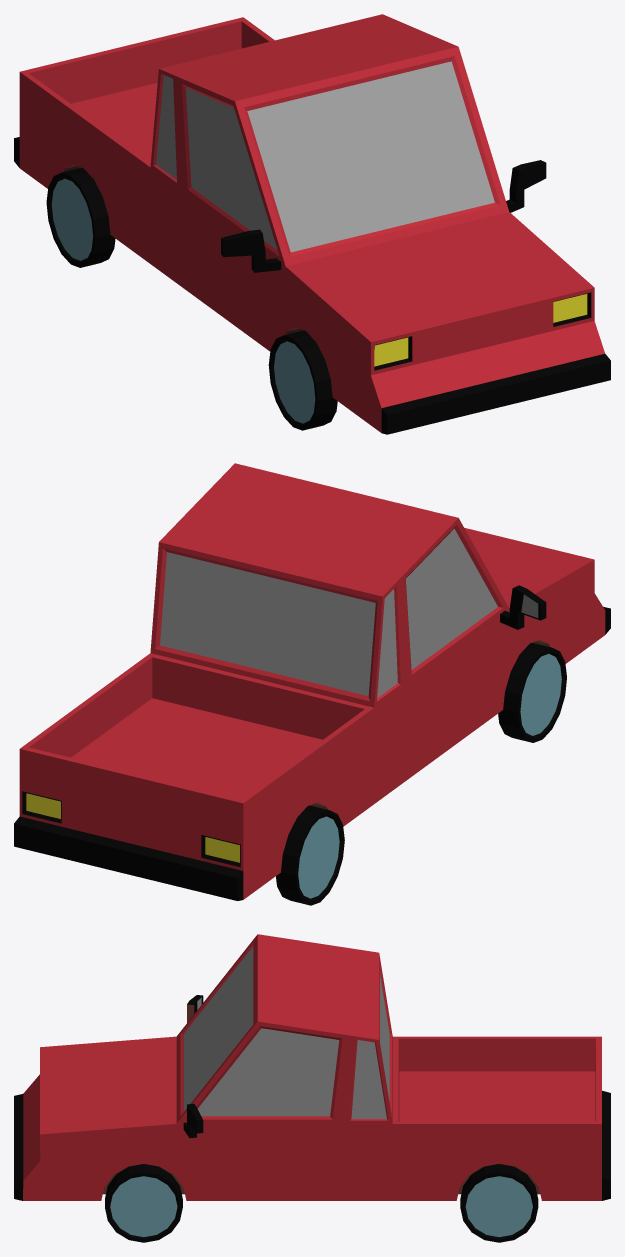
Rendered from Pickup Truck 2.fbx.
3 renders of one model, top to bottom at view 1: azimuth 30°, elevation 25°; view 2: azimuth 150°, elevation 25°; view 3: azimuth 270°, elevation 25°, orthographic. The views are drawn at different scales.
Parts seen in each view (by area): view 1: Pickup Truck Body.002, Wheel RR.016, Wheel FR.018; view 2: Pickup Truck Body.002, Wheel RR.016, Wheel FR.018; view 3: Pickup Truck Body.002, Wheel RL.016, Wheel FL.018.
Boxes of the visible parts, x1=… form: Pickup Truck Body.002: x1=14, y1=14, x2=610, y2=434; Wheel RR.016: x1=46, y1=167, x2=115, y2=267; Wheel FR.018: x1=268, y1=330, x2=337, y2=430; Pickup Truck Body.002: x1=14, y1=463, x2=610, y2=900; Wheel RR.016: x1=276, y1=805, x2=344, y2=905; Wheel FR.018: x1=498, y1=643, x2=566, y2=742; Pickup Truck Body.002: x1=14, y1=934, x2=610, y2=1200; Wheel RL.016: x1=460, y1=1164, x2=538, y2=1242; Wheel FL.018: x1=105, y1=1164, x2=182, y2=1242.
Bounding box in the file's own units: 2.22 × 1.78 × 4.45.
